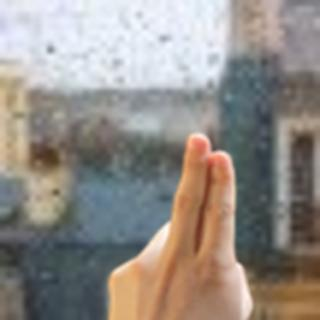DHAVE: (98, 125, 270, 320)
